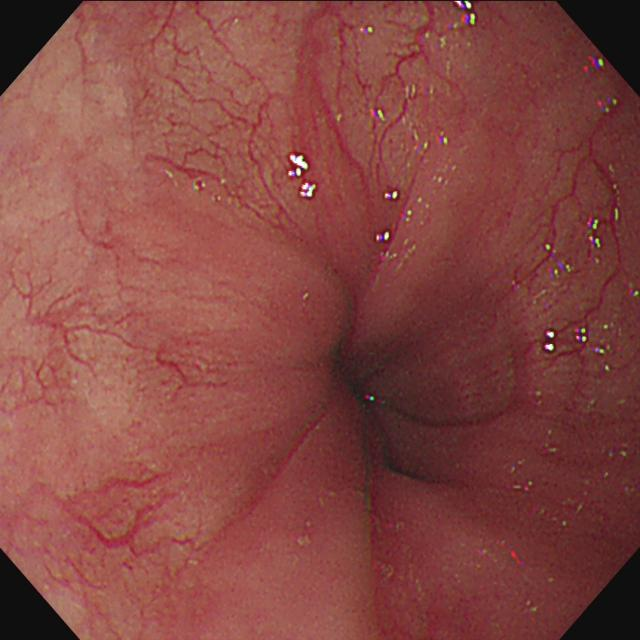E: (327, 336, 437, 487)
U: (287, 153, 311, 177), (456, 2, 476, 26), (299, 181, 317, 199)
